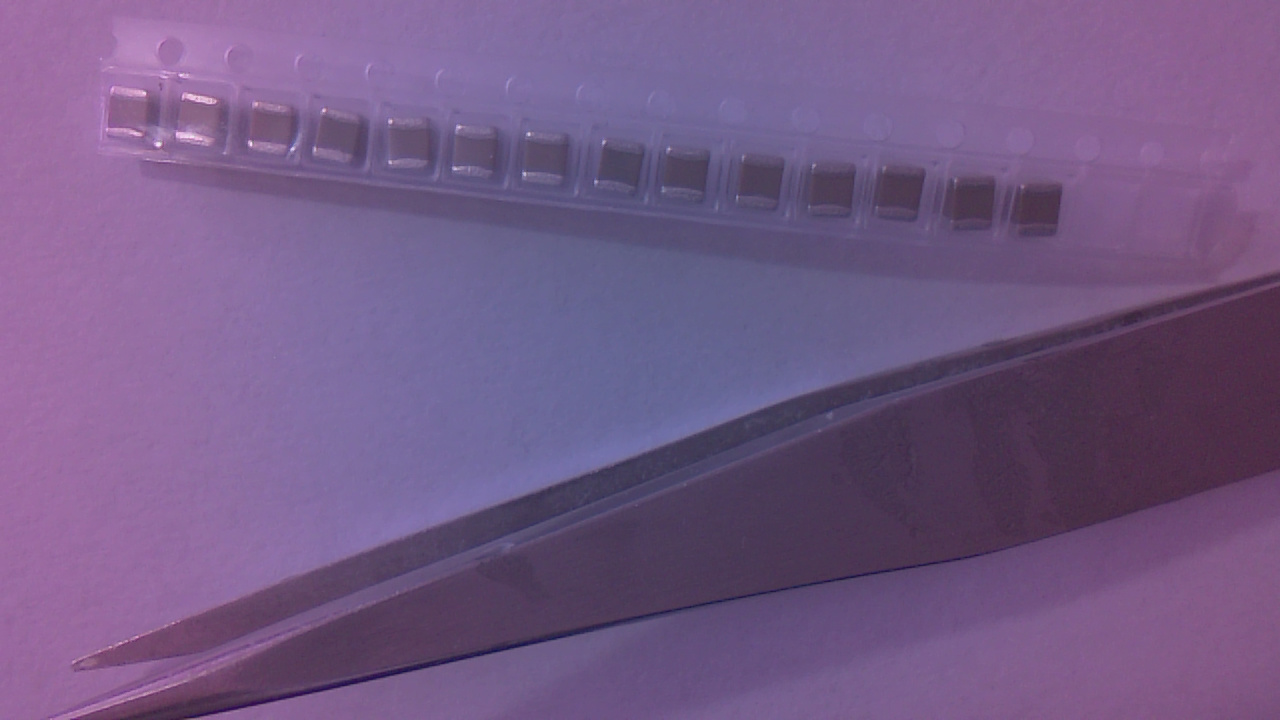Condensator: (945, 176, 998, 240), (878, 169, 933, 229), (598, 141, 651, 201), (738, 155, 790, 216), (810, 165, 861, 226), (1015, 185, 1069, 242), (664, 149, 715, 209), (251, 103, 298, 164), (178, 94, 226, 153), (456, 125, 501, 186), (318, 113, 366, 170), (109, 88, 157, 145), (390, 119, 437, 176), (526, 133, 572, 191)
